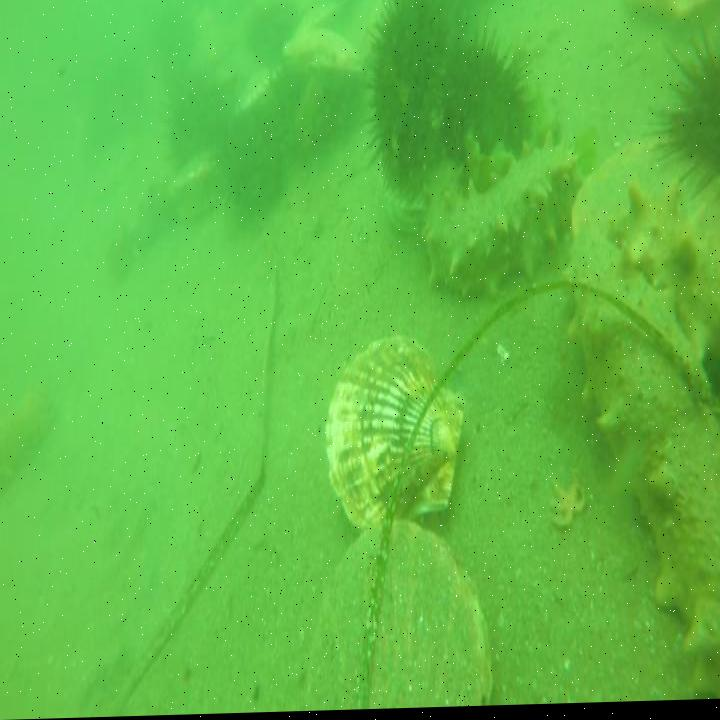echinus: (370, 0, 449, 199), (441, 27, 532, 180), (651, 17, 720, 207), (218, 100, 288, 222), (165, 74, 227, 177), (245, 2, 302, 71)
holothurian: (567, 216, 720, 707), (423, 136, 588, 312), (609, 178, 720, 379)
scallop: (301, 513, 499, 713), (322, 327, 470, 544), (166, 135, 225, 233), (292, 20, 361, 77), (231, 56, 286, 124), (619, 0, 720, 30)
